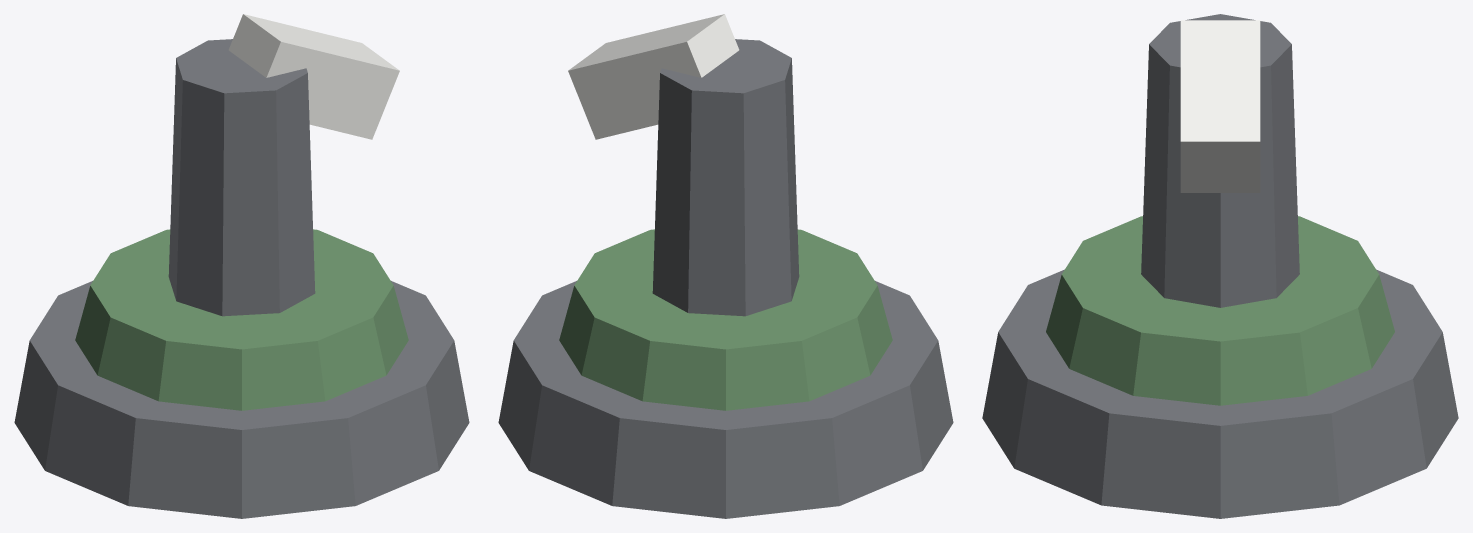
Rendered from golf-course-and-clubhouse-sprinkler-head-518831e9__33503.glb.
3 renders of one model, left to right at view 1: azimuth 30°, elevation 25°; view 2: azimuth 150°, elevation 25°; view 3: azimuth 270°, elevation 25°, orthographic. The views are drawn at different scales.
Visible parts, largest first — view 1: sprinkler-head; view 2: sprinkler-head; view 3: sprinkler-head.
Part boxes in pixels (bbox=[...]): sprinkler-head: bbox=[14, 14, 469, 518]; sprinkler-head: bbox=[498, 14, 953, 518]; sprinkler-head: bbox=[982, 14, 1458, 518].
Size of the model in its own units: 0.3 by 0.2838 by 0.3.
